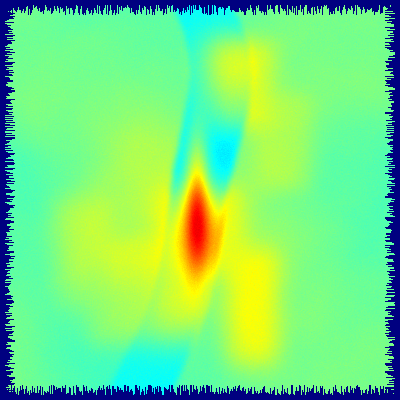algal_bloom: (0, 64, 161, 255), (21, 0, 166, 128)
thermal_plume: (191, 63, 250, 204)
